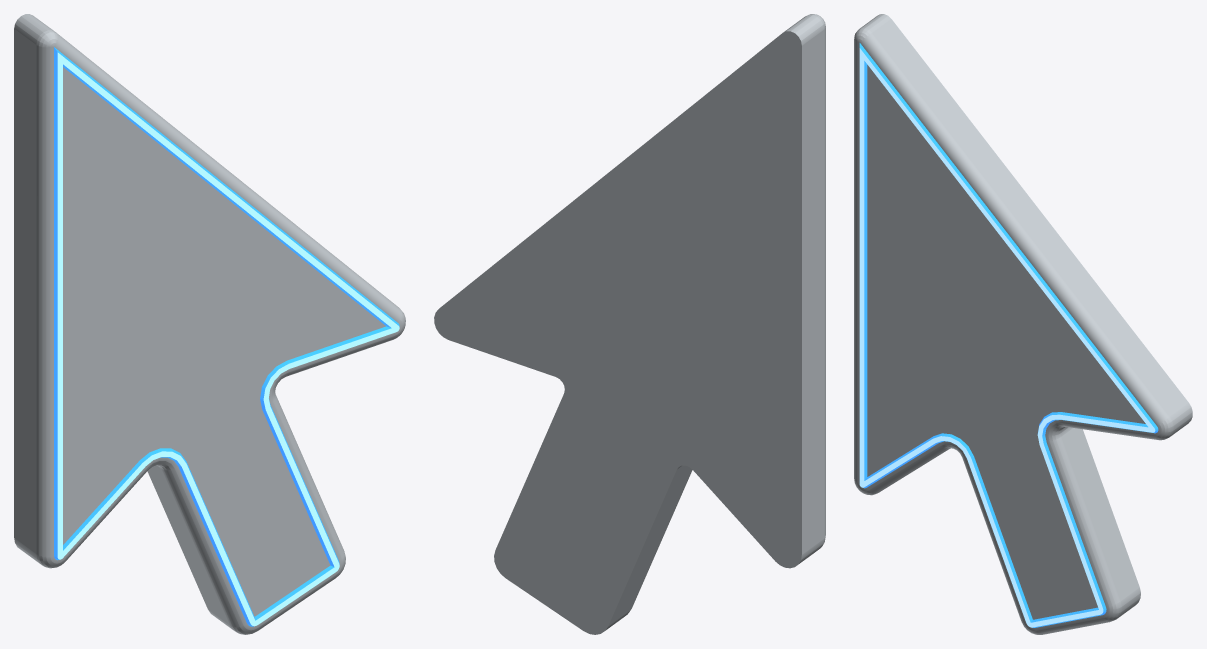
The model's file is arrow-cursor-7d5415.glb.
3 views of the same model, side by side, from view 1: azimuth 30°, elevation 25°; view 2: azimuth 150°, elevation 25°; view 3: azimuth 330°, elevation 25° (orthographic). The views are drawn at different scales.
Visible parts, largest first — view 1: cursor, accent-core, accent-line; view 2: cursor; view 3: cursor, accent-core, accent-line.
Part boxes in pixels (x1=…): cursor: x1=14, y1=14, x2=405, y2=634; accent-core: x1=57, y1=52, x2=399, y2=626; accent-line: x1=54, y1=47, x2=399, y2=626; cursor: x1=434, y1=14, x2=825, y2=634; cursor: x1=854, y1=14, x2=1192, y2=634; accent-core: x1=859, y1=48, x2=1155, y2=627; accent-line: x1=859, y1=43, x2=1158, y2=627.
Bounding box in the file's own units: 0.0295 × 0.05 × 0.00425.
